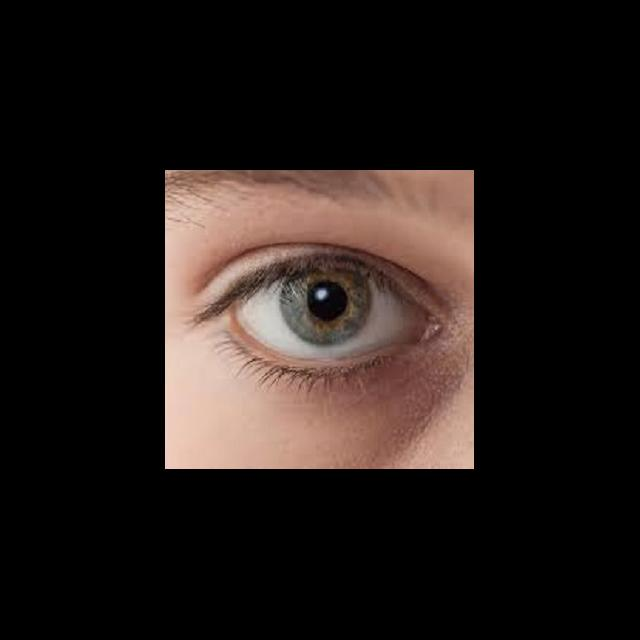eye: (239, 267, 420, 362)
iris: (281, 270, 376, 347)
